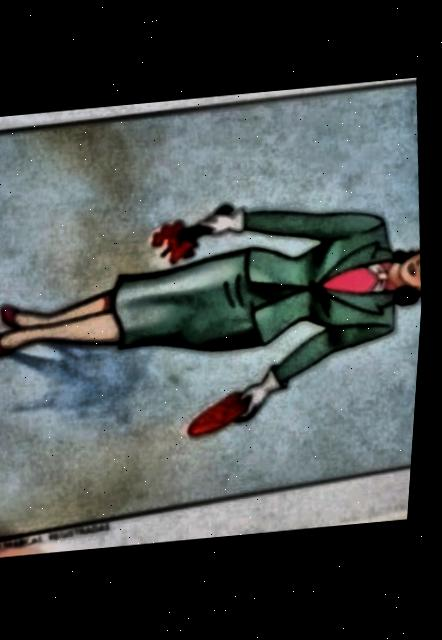La Dama: (0, 81, 426, 541)
